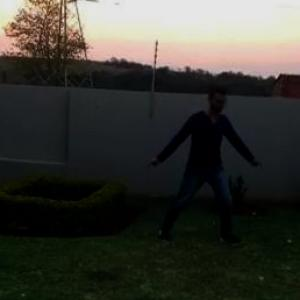land: (146, 74, 264, 247)
